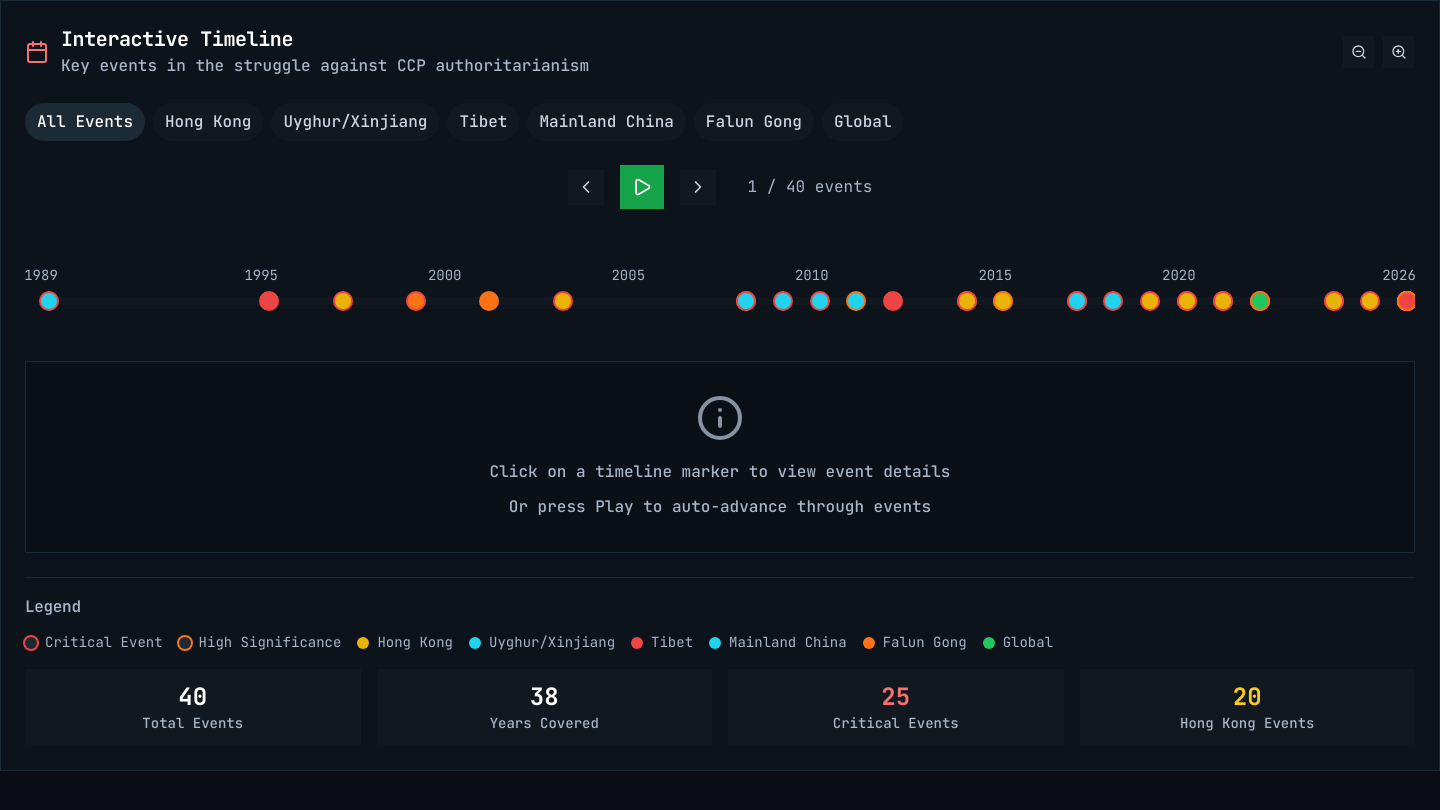
it: InteractiveTimeline › filters events when a category is selected
Note: "Hong Kong" appears in both filter and legend — click the first (filter button)
Click the button "Hong Kong": (208, 122) [153, 103, 263, 141]
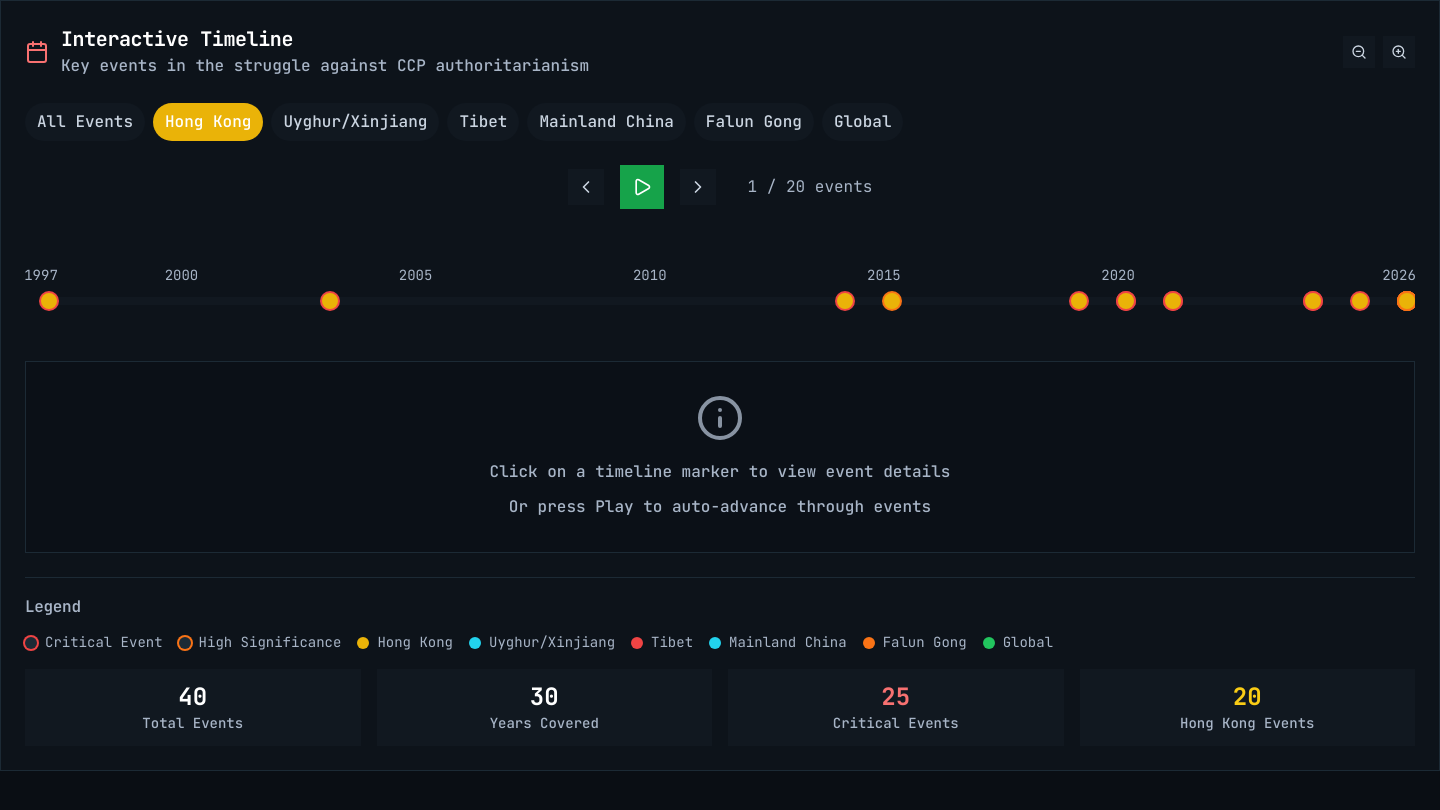
Result: the text "1 / 20 events" is shown at [748, 174, 872, 200]
